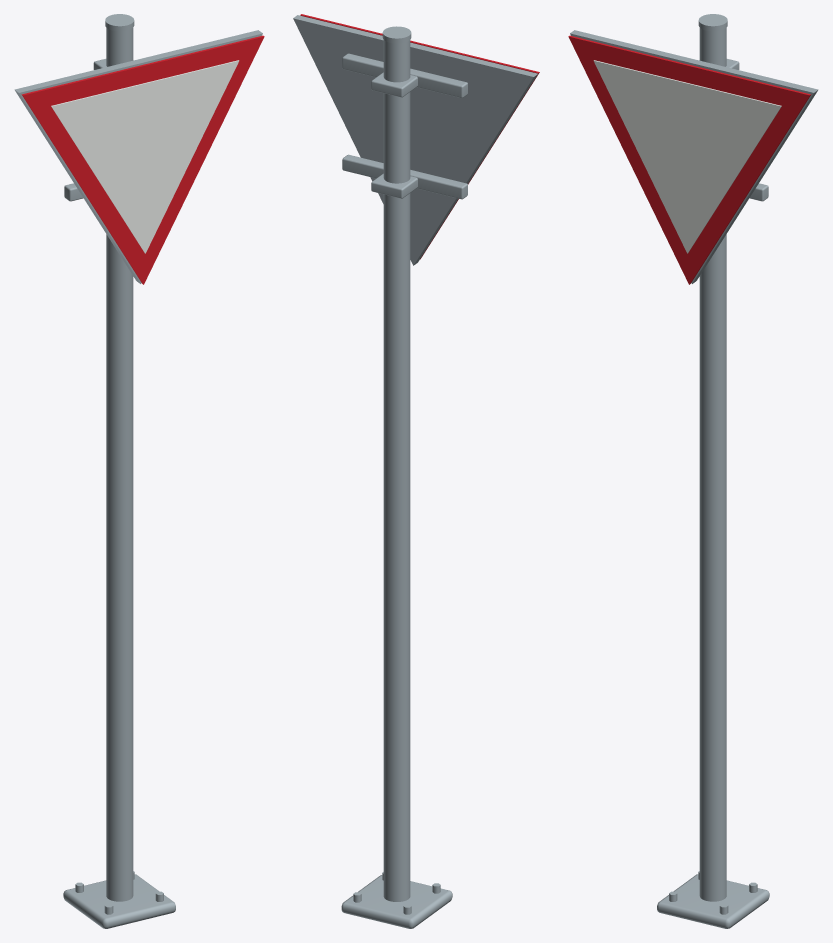
Rendered from DS_Sign_Yield.fbx.
3 views of the same model, side by side, from view 1: azimuth 30°, elevation 25°; view 2: azimuth 150°, elevation 25°; view 3: azimuth 330°, elevation 25° (orthographic).
Parts seen in each view (by area): view 1: Post.001, Face_Field.001, Face_Border.001, BasePlate.001, Plate_Back.001; view 2: Post.001, Plate_Back.001, BasePlate.001, RearRail.003, RearRail.002, Face_Border.001, PostClamp.002, PostClamp.003; view 3: Post.001, Face_Field.001, Face_Border.001, BasePlate.001, Plate_Back.001.
Part boxes in pixels (x1=…): Post.001: x1=106, y1=28, x2=133, y2=901; Face_Field.001: x1=51, y1=60, x2=239, y2=253; Face_Border.001: x1=21, y1=35, x2=264, y2=284; BasePlate.001: x1=63, y1=874, x2=175, y2=928; Plate_Back.001: x1=14, y1=30, x2=262, y2=283; Post.001: x1=383, y1=40, x2=410, y2=901; Plate_Back.001: x1=293, y1=15, x2=537, y2=265; BasePlate.001: x1=341, y1=875, x2=452, y2=928; RearRail.003: x1=342, y1=53, x2=467, y2=97; RearRail.002: x1=342, y1=154, x2=467, y2=199; Face_Border.001: x1=300, y1=14, x2=539, y2=259; PostClamp.002: x1=371, y1=173, x2=417, y2=198; PostClamp.003: x1=371, y1=72, x2=417, y2=97; Post.001: x1=699, y1=28, x2=726, y2=901; Face_Field.001: x1=593, y1=60, x2=781, y2=253; Face_Border.001: x1=568, y1=35, x2=811, y2=284; BasePlate.001: x1=657, y1=874, x2=769, y2=928; Plate_Back.001: x1=570, y1=30, x2=818, y2=283.
Size of the model in its own units: 79.67 by 277 by 26.6.
